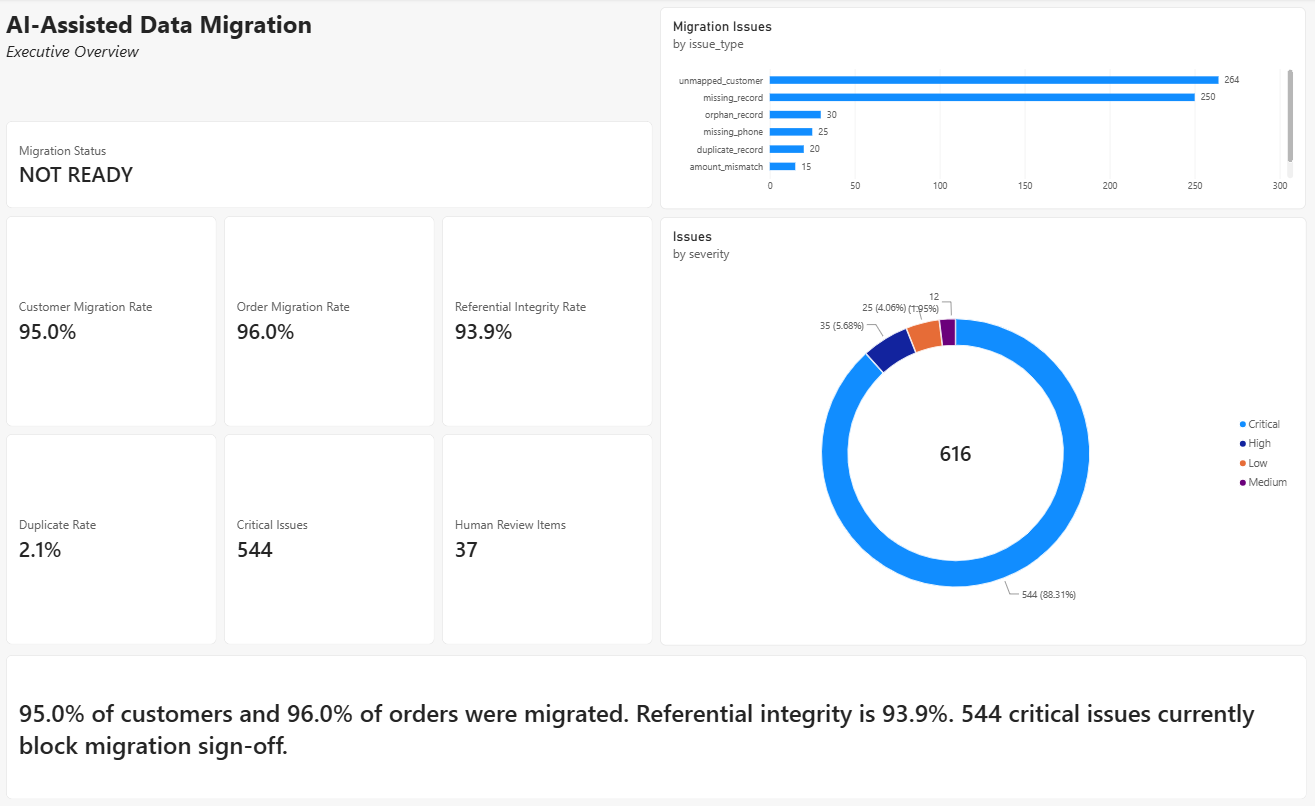

The page's visual inventory and layout, read from the dashboard file:
{"tool":"powerbi","page":{"name":"Executive Overview","canvas":[1920,1080],"ordinal":0},"visuals":[{"type":"cardVisual","fields":{"Data":["_Measures.Customer Migration Rate"]},"box":[10,290,280,280],"z":0},{"type":"cardVisual","fields":{"Data":["_Measures.Duplicate Rate"]},"box":[10,580,280,280],"z":1000},{"type":"cardVisual","fields":{"Data":["_Measures.Order Migration Rate"]},"box":[300,290,280,280],"z":2000},{"type":"cardVisual","fields":{"Data":["_Measures.Critical Issues"]},"box":[300,580,280,280],"z":3000},{"type":"cardVisual","fields":{"Data":["_Measures.Referential Integrity Rate"]},"box":[590,290,280,280],"z":4000},{"type":"cardVisual","fields":{"Data":["_Measures.Human Review Items"]},"box":[590,580,280,280],"z":5000},{"type":"cardVisual","fields":{"Data":["_Measures.Migration Status"]},"box":[10.1,163.9,860.3,116.6],"z":6000},{"type":"clusteredBarChart","fields":{"Category":["migration_issues.issue_type"],"Y":["CountNonNull(migration_issues.issue_id)"]},"box":[880.5,12,859.2,268.7],"z":7000},{"type":"donutChart","fields":{"Category":["migration_issues.severity"],"Y":["CountNonNull(migration_issues.issue_id)"]},"box":[880.6,290.7,860.3,569.6],"z":8000},{"type":"cardVisual","fields":{"Data":["_Measures.Executive Summary"]},"box":[10.1,873.8,1730.7,192.7],"z":9000},{"type":"textbox","box":[10.6,12,859.2,151.6],"z":10000}]}

Visuals, with their boxes on the page's 1920x1080 design canvas (x1, y1, x2, y2). These are canvas units, not pixel positions in the 1315x806 screenshot, which may show the page scaled, cropped or inside an application window:
cardVisual - _Measures.Customer Migration Rate: detection(10, 290, 290, 570)
cardVisual - _Measures.Duplicate Rate: detection(10, 580, 290, 860)
cardVisual - _Measures.Order Migration Rate: detection(300, 290, 580, 570)
cardVisual - _Measures.Critical Issues: detection(300, 580, 580, 860)
cardVisual - _Measures.Referential Integrity Rate: detection(590, 290, 870, 570)
cardVisual - _Measures.Human Review Items: detection(590, 580, 870, 860)
cardVisual - _Measures.Migration Status: detection(10, 164, 870, 280)
clusteredBarChart - migration_issues.issue_type x CountNonNull(migration_issues.issue_id): detection(880, 12, 1740, 281)
donutChart - migration_issues.severity x CountNonNull(migration_issues.issue_id): detection(881, 291, 1741, 860)
cardVisual - _Measures.Executive Summary: detection(10, 874, 1741, 1066)
textbox: detection(11, 12, 870, 164)
